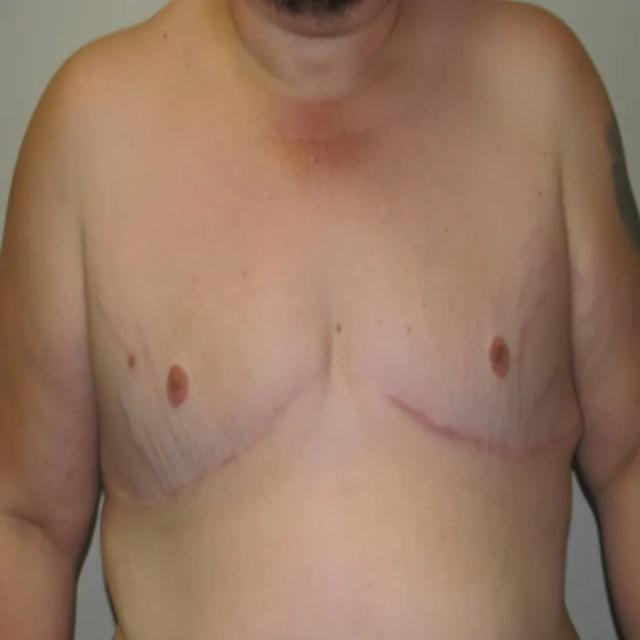Seno herido: (95, 252, 332, 530), (347, 221, 589, 486)
